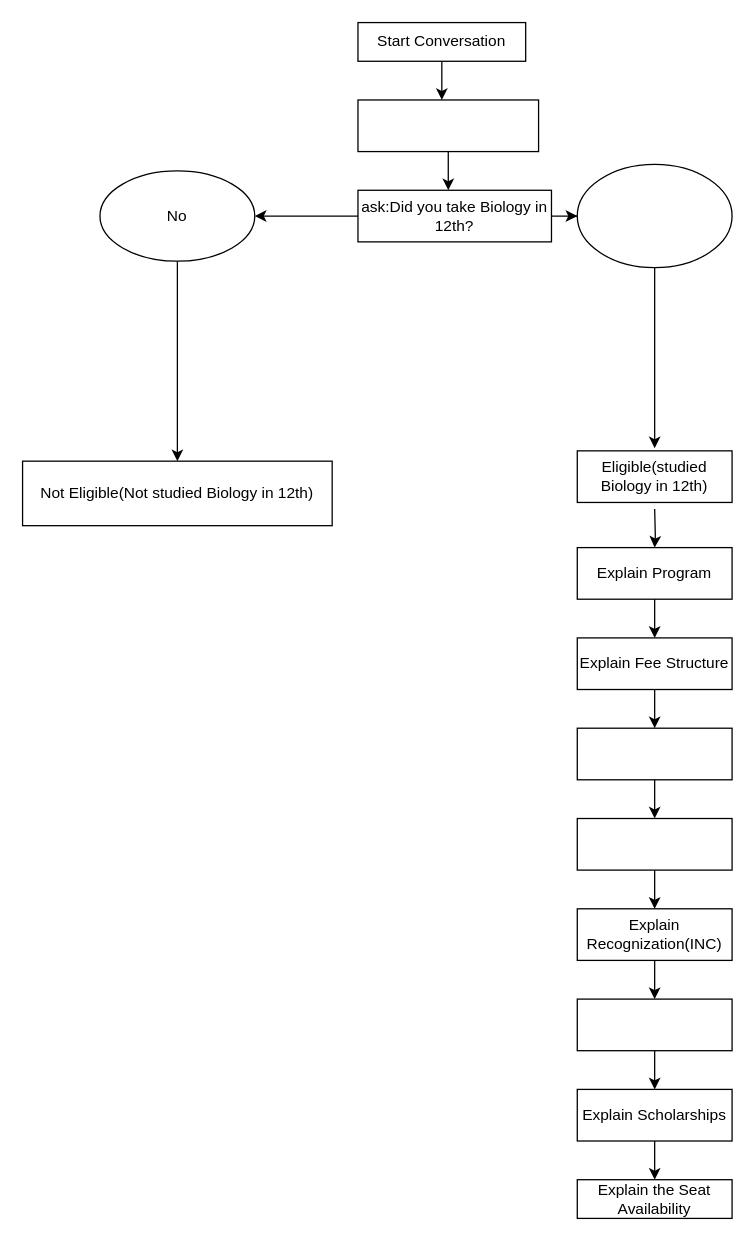
Some shapes in this 755 by 1241 pixel diagram are drawn without their labels. Each missing label, with the box of its shape:
ask:Interested in B.Sc Nursing ?: (357, 99, 539, 152)
Explain clinical Training: (576, 998, 732, 1051)
Explain college Location: (576, 817, 732, 870)
Explain hostel & Training: (576, 727, 732, 780)
Yes: (576, 163, 732, 268)
